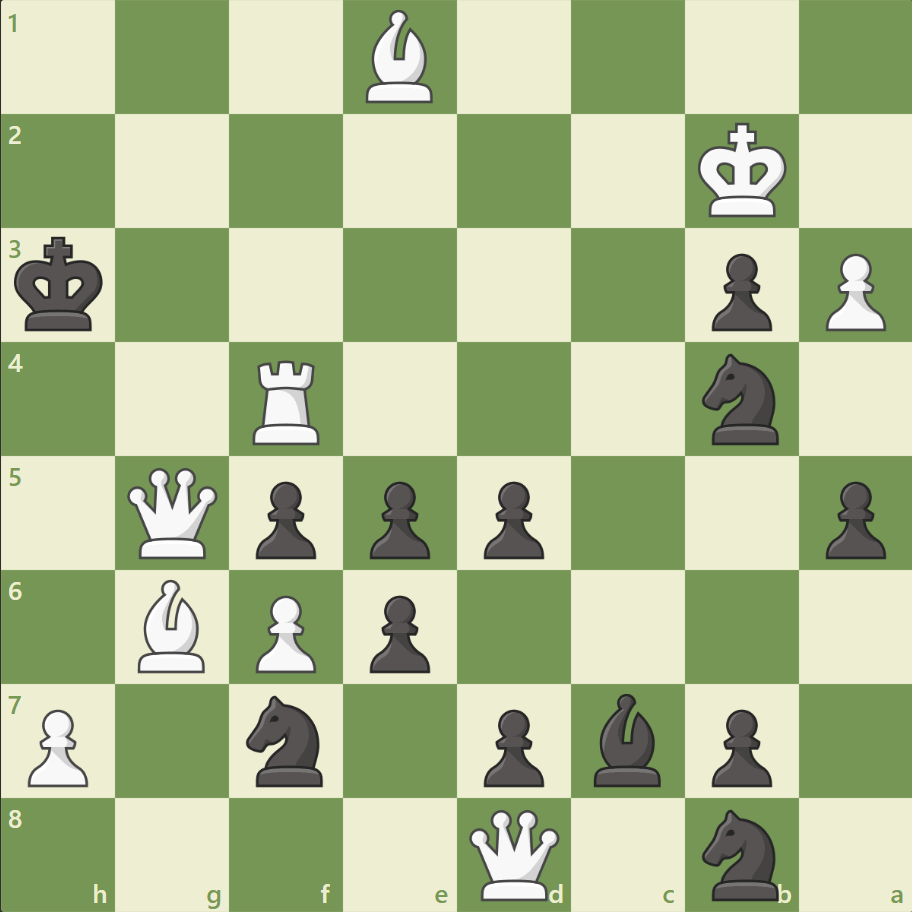B: (358, 6, 442, 109), (131, 574, 215, 676)
K: (692, 117, 792, 225)
P: (20, 700, 95, 791), (247, 586, 322, 677), (815, 246, 889, 337)
Q: (464, 804, 563, 903), (124, 463, 223, 562)
R: (246, 352, 329, 449)
b: (585, 687, 669, 790)
k: (11, 231, 111, 339)
n: (238, 688, 335, 791), (692, 802, 789, 904), (692, 348, 789, 450)
p: (701, 700, 776, 791), (474, 700, 549, 791), (474, 473, 549, 564), (247, 473, 322, 564), (701, 246, 776, 337), (361, 586, 435, 677), (815, 473, 889, 564), (361, 473, 435, 564)
